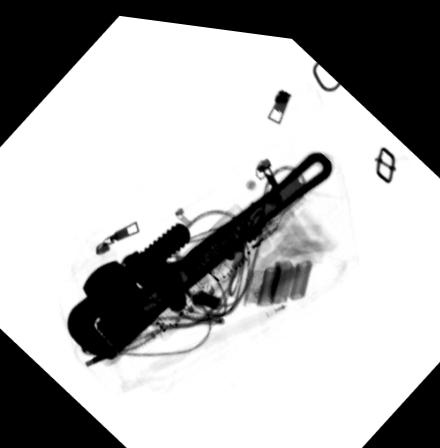Wrench: (64, 141, 333, 357)
